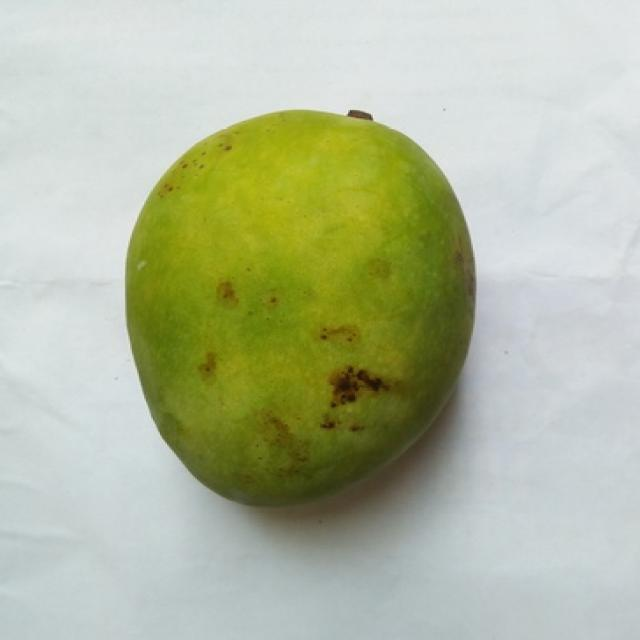Mango: (127, 110, 473, 504)
